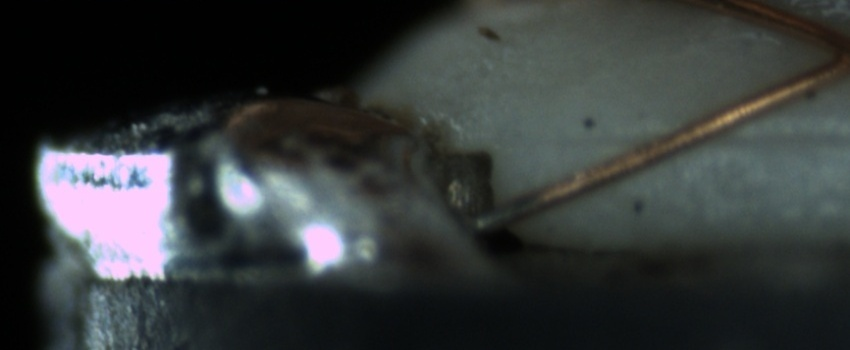CL: (804, 13, 849, 86)
DL: (552, 106, 849, 171)
